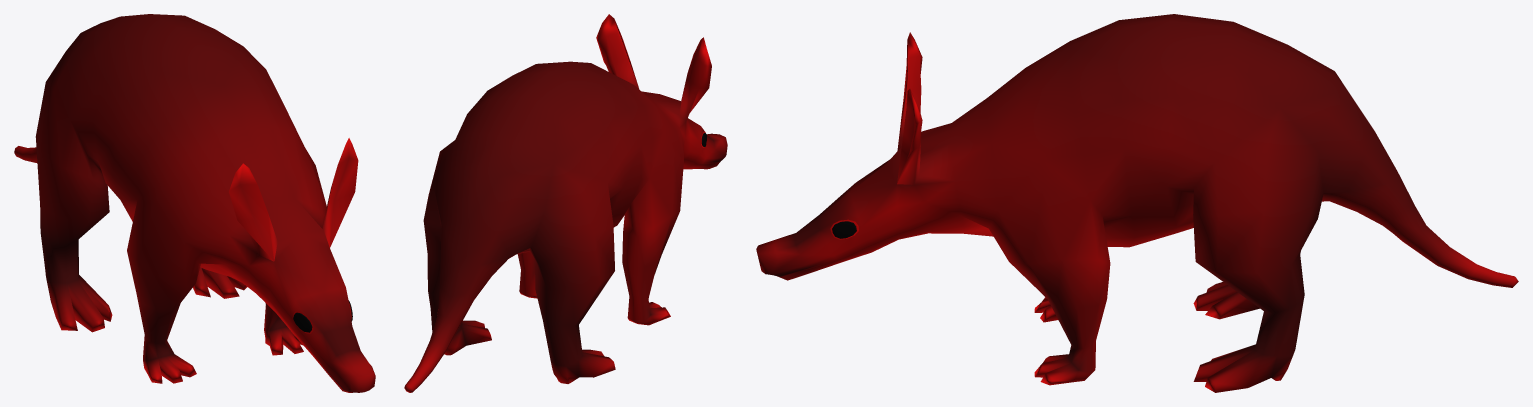
Rendered from Animals_Aardvark.fbx.
3 renders of one model, left to right at view 1: azimuth 30°, elevation 25°; view 2: azimuth 150°, elevation 25°; view 3: azimuth 270°, elevation 25°, orthographic. The views are drawn at different scales.
Visible parts, largest first — view 1: base; view 2: base; view 3: base.
Boxes of the visible parts, x1,y1,x2,y2 form: base: [14, 14, 375, 392]; base: [404, 14, 727, 392]; base: [756, 14, 1518, 392].
Size of the model in its own units: 45.17 by 65.83 by 141.
